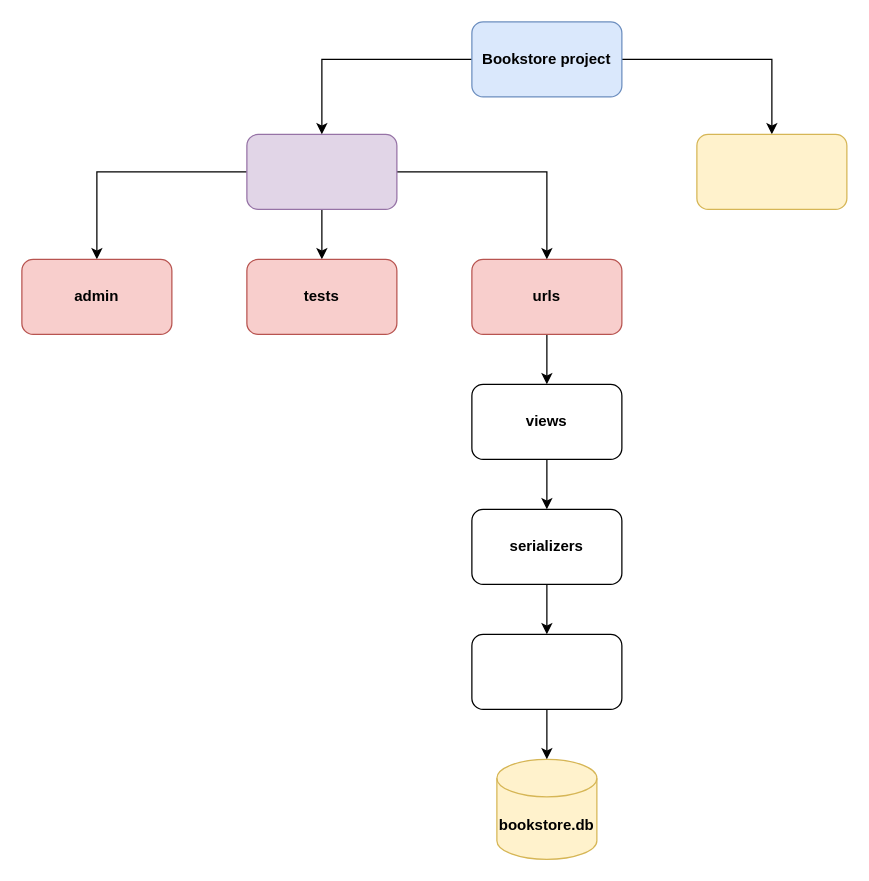
Some shapes in this 869 by 881 pixel diagram are drawn without their labels. The shapes that lost their labels are listed below. From the top down, each one's centre as x and y in pixels, then its label:
(321,171): api (app)
(771,171): media (images storage)
(546,671): models
